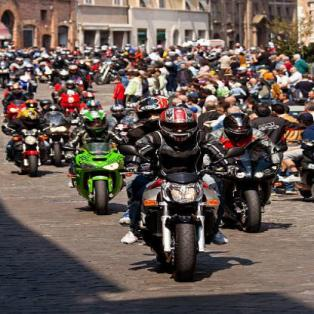Motocicleta: (130, 154, 235, 278), (58, 132, 132, 214), (225, 145, 269, 228), (3, 117, 60, 176)
